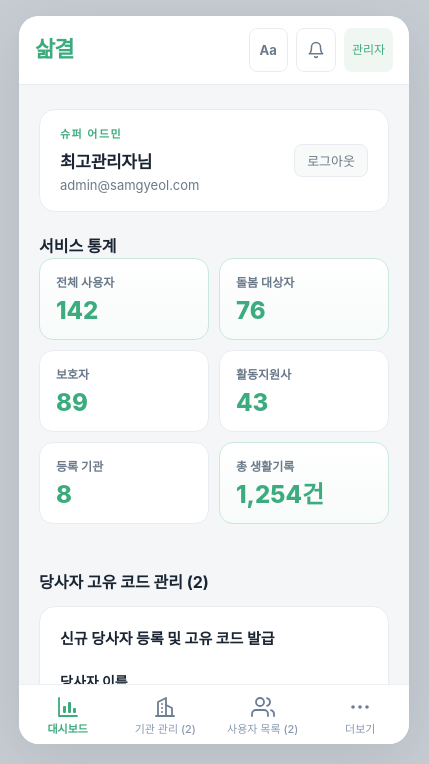
Test: 통계 및 하단바 탭을 렌더링하고, 사용자 목록 탭으로 전환하여 사용자 목록을 확인할 수 있다
The image size is (429, 764).
Expected: the heading "최고관리자님" is shown, [60,152,152,172]
Expected: the text "142" is shown, [56,296,98,325]
Note: 사용자 목록 탭으로 전환
Click the tab "사용자 목록 (2)" at (263, 714), box [214,685,312,744]
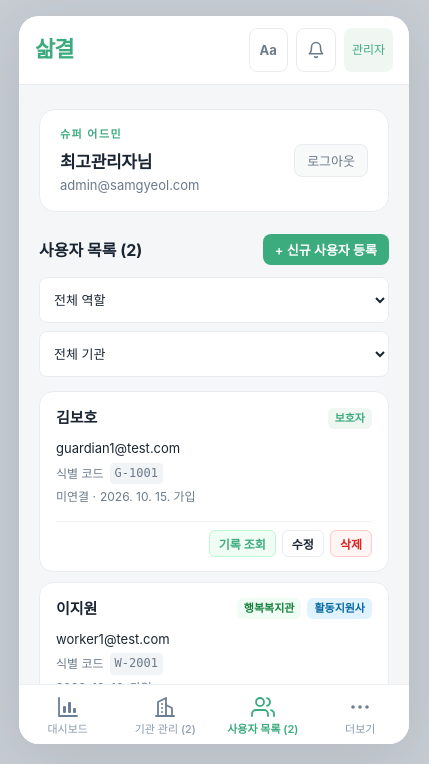
Result: the text "김보호" is shown at [56,406,97,430]
Result: the text "이지원" is shown at [56,597,97,621]
Result: the text "G-1001" is shown at [110,463,163,484]
